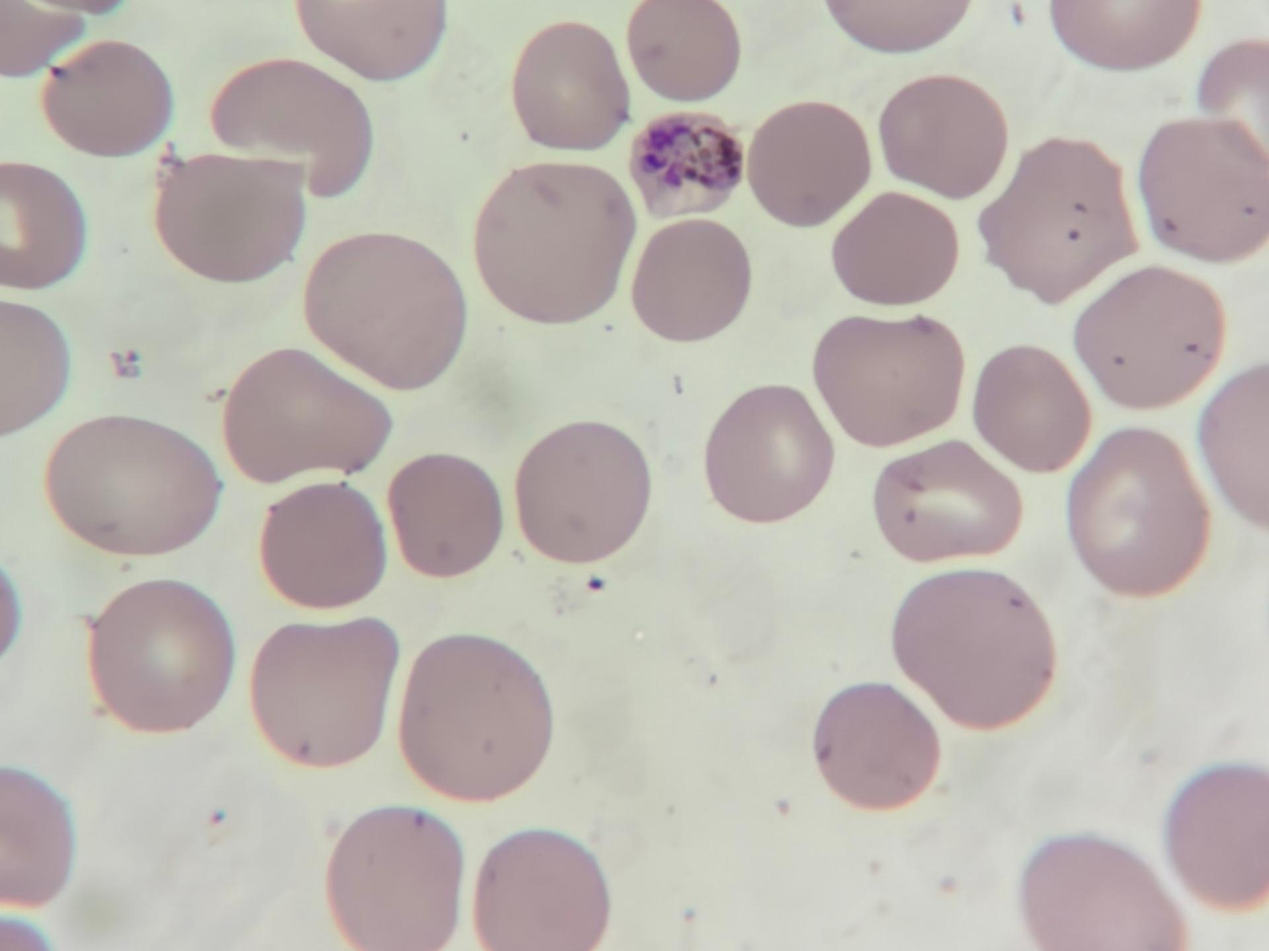Infected: (631, 109, 744, 214)
Uninfected: (892, 572, 1054, 730), (304, 235, 467, 391), (399, 636, 552, 801), (475, 167, 632, 323), (981, 141, 1134, 299), (46, 417, 221, 555), (1065, 431, 1210, 595), (222, 350, 391, 486), (86, 583, 233, 733), (212, 58, 370, 197), (250, 619, 397, 767), (1074, 270, 1221, 410), (157, 150, 304, 283), (815, 316, 963, 447), (326, 810, 464, 949), (514, 424, 648, 562), (1139, 120, 1269, 262), (873, 441, 1022, 561), (1020, 840, 1180, 948), (705, 388, 833, 522), (259, 482, 389, 608), (879, 76, 1007, 200), (813, 686, 939, 810), (473, 832, 605, 950), (744, 102, 868, 225), (512, 22, 629, 148), (829, 193, 958, 307), (387, 455, 505, 579), (974, 347, 1090, 471), (46, 42, 172, 156), (1166, 767, 1268, 907), (631, 221, 749, 341), (627, 1, 738, 100), (300, 3, 441, 79), (0, 162, 85, 287), (2, 768, 73, 904), (1056, 1, 1196, 67)
